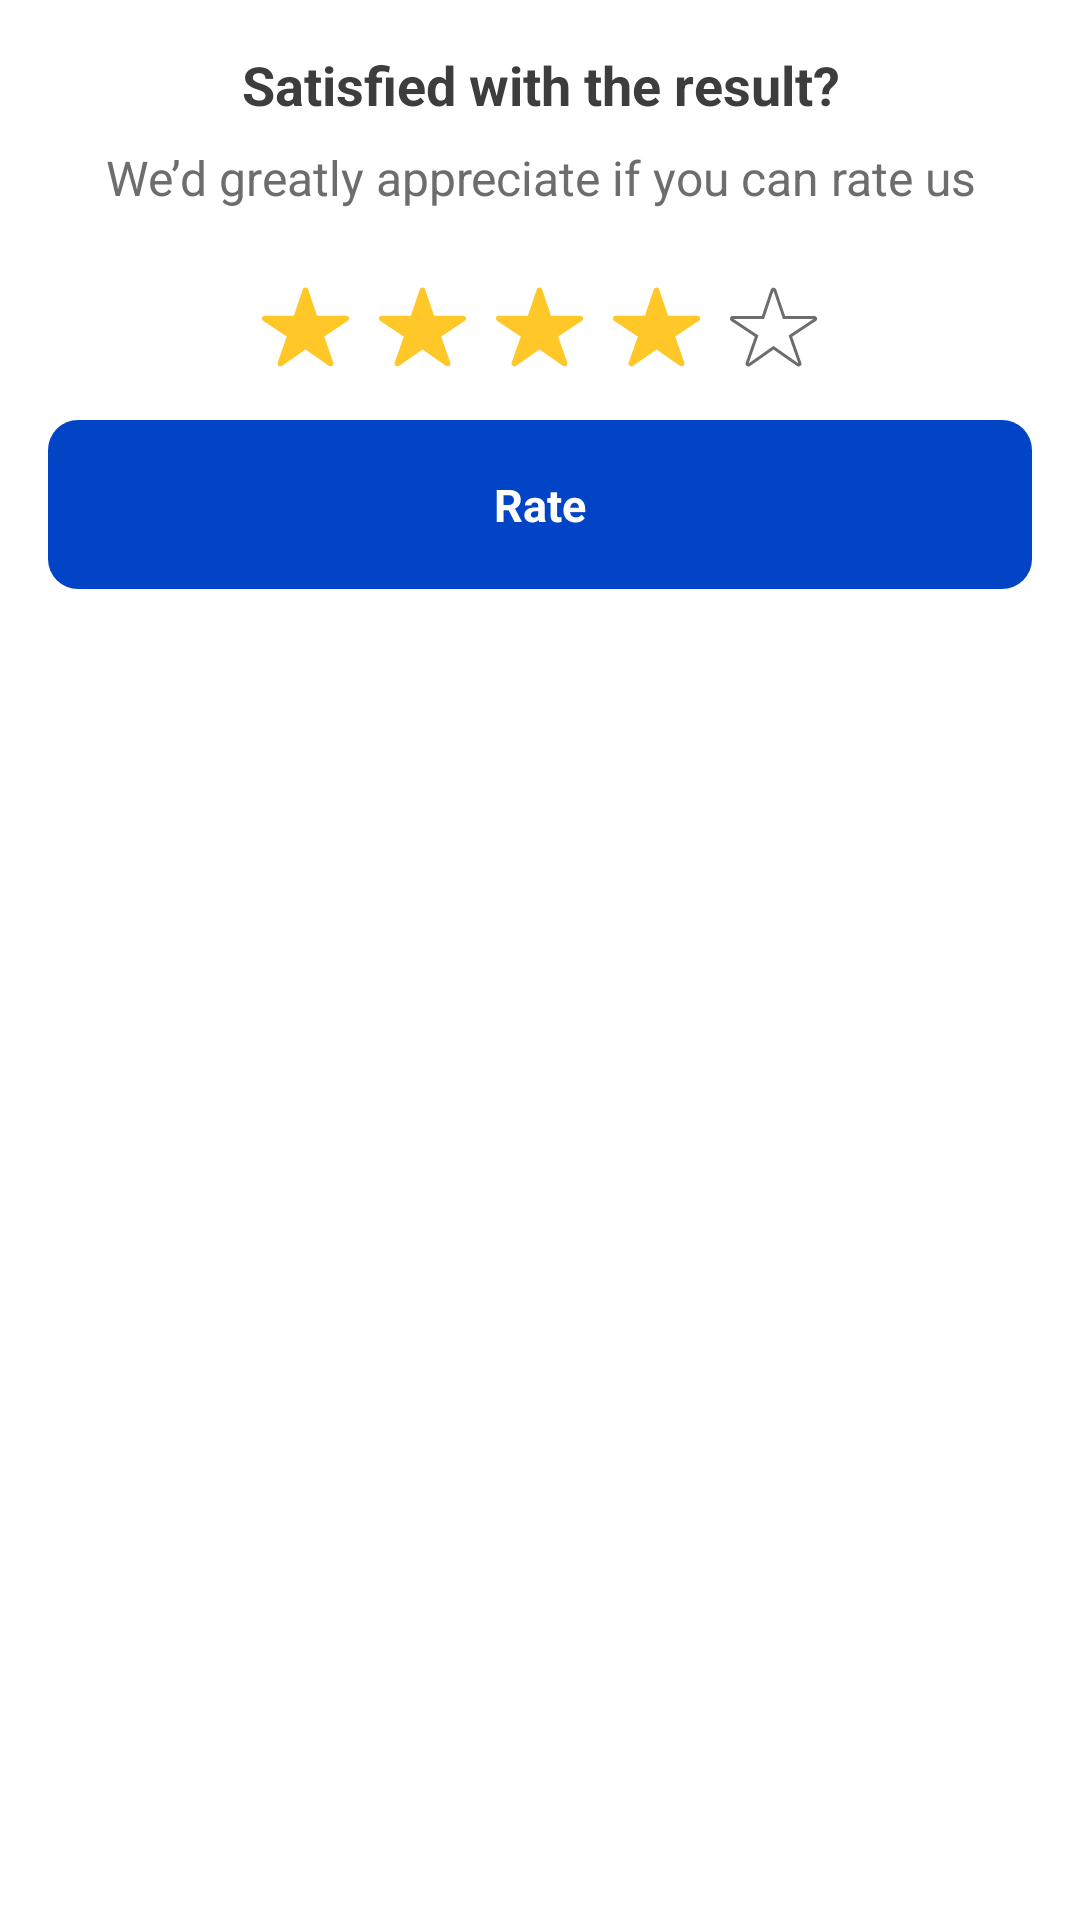

Icons on this 1080x1920 Android screen, each with its box as (x1=x1, y1=y1, x2=x2, y2=y2):
empty star: (x1=730, y1=287, x2=817, y2=367)
star: (x1=262, y1=287, x2=349, y2=367), (x1=379, y1=287, x2=466, y2=367), (x1=496, y1=287, x2=583, y2=367), (x1=613, y1=287, x2=700, y2=367)
